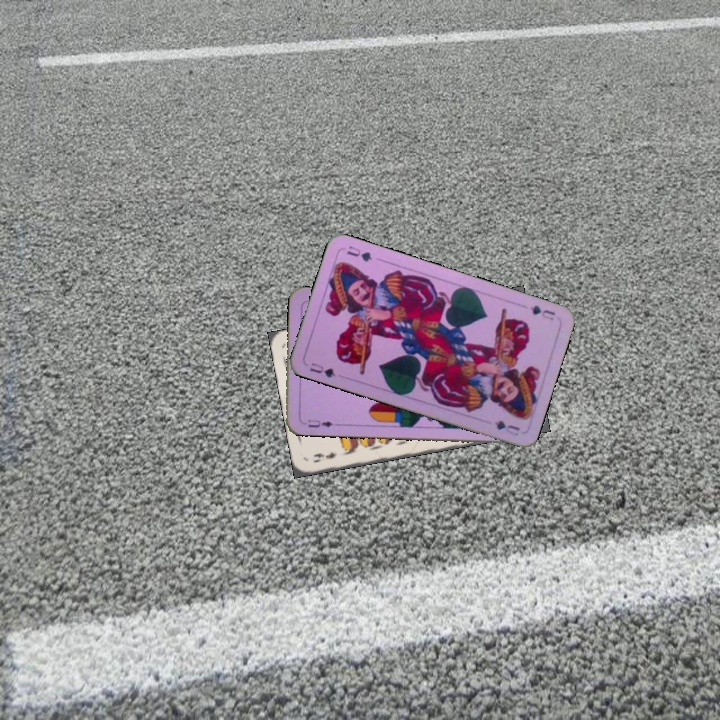E9: (309, 448, 340, 465)
EU: (298, 416, 339, 430)
GU: (526, 301, 558, 323), (306, 359, 338, 380)
